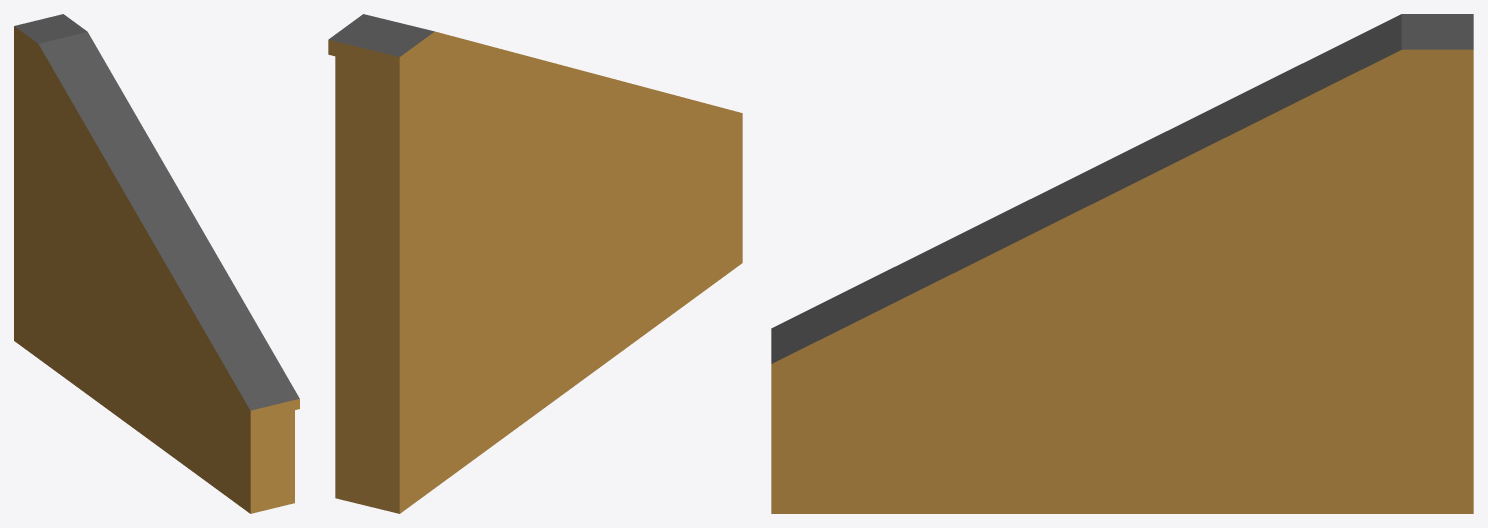
Rendered from Skate_Slide_Rail_Filled_01.FBX.
The picture shows the model from 3 angles, left to right: view 1: azimuth 30°, elevation 25°; view 2: azimuth 150°, elevation 25°; view 3: azimuth 270°, elevation 25°; orthographic projection. The views are drawn at different scales.
Parts seen in each view (by area): view 1: Skate_Slide_Rail_Filled_01; view 2: Skate_Slide_Rail_Filled_01; view 3: Skate_Slide_Rail_Filled_01.
Part boxes in pixels (x1,y1,x2,y2): Skate_Slide_Rail_Filled_01: (14,14,299,513); Skate_Slide_Rail_Filled_01: (328,14,742,513); Skate_Slide_Rail_Filled_01: (771,14,1473,513).
Bounding box in the file's own units: 0.3614 × 2.2 × 3.
